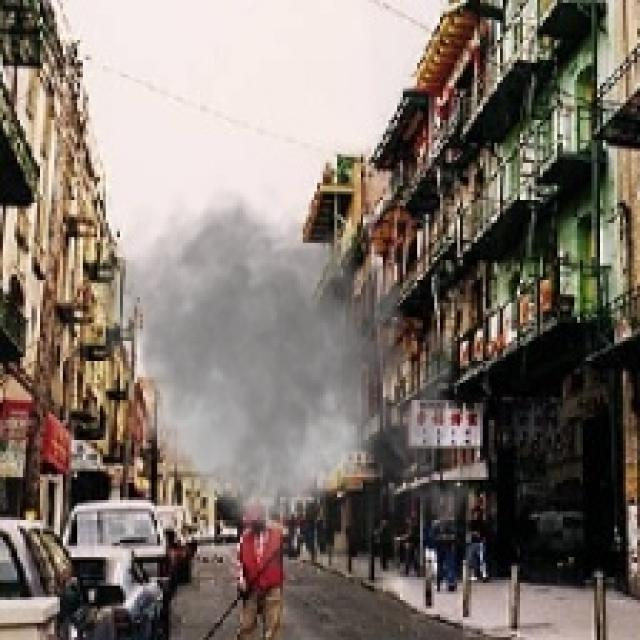smoke: (80, 174, 483, 600)
